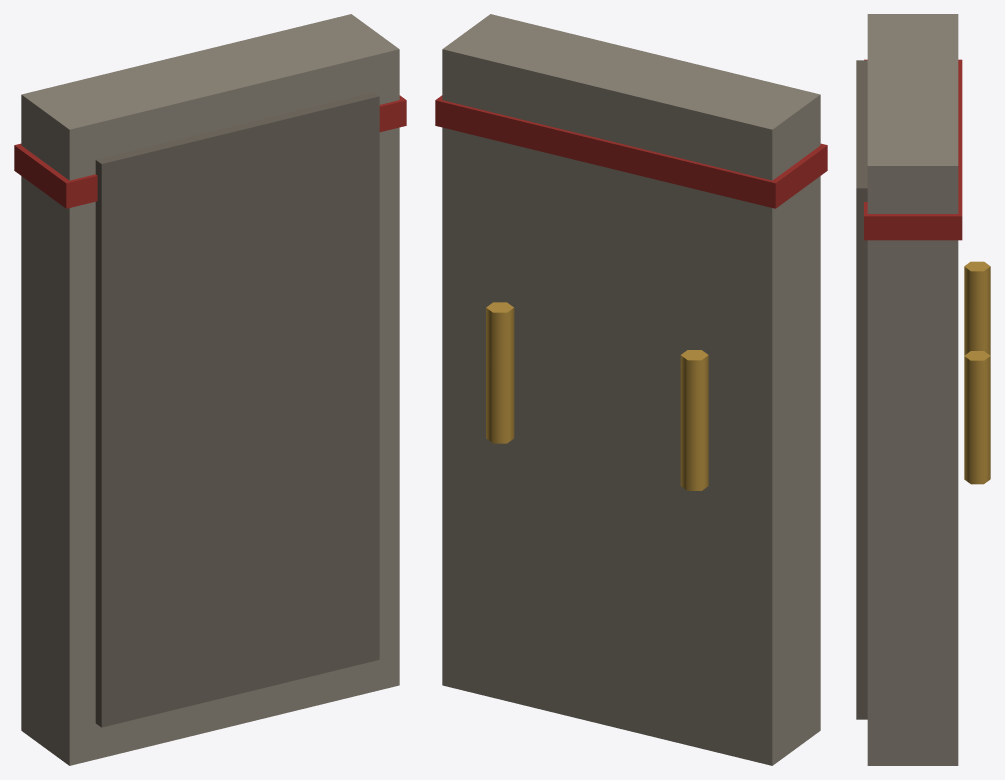
File: BO_SM_EnemyWeapon_CamelStele_v001.glb
3 views of the same model, side by side, from view 1: azimuth 30°, elevation 25°; view 2: azimuth 150°, elevation 25°; view 3: azimuth 270°, elevation 25° (orthographic). The views are drawn at different scales.
Visible parts, largest first — view 1: body_001, body_000, body_002; view 2: body_000, body_002, body_003, body_004; view 3: body_000, body_001, body_003, body_002, body_004.
Boxes of the visible parts, left/top/right/bottom form: body_001: left=95, top=92, right=379, bottom=727; body_000: left=21, top=14, right=399, bottom=765; body_002: left=14, top=95, right=406, bottom=208; body_000: left=442, top=14, right=820, bottom=765; body_002: left=435, top=95, right=827, bottom=208; body_003: left=486, top=302, right=514, bottom=443; body_004: left=680, top=350, right=708, bottom=490; body_000: left=867, top=14, right=958, bottom=765; body_001: left=856, top=60, right=867, bottom=719; body_003: left=964, top=351, right=990, bottom=484; body_002: left=864, top=59, right=962, bottom=240; body_004: left=964, top=261, right=990, bottom=355.
Bounding box in the file's own units: 0.98 × 1.75 × 0.355.
